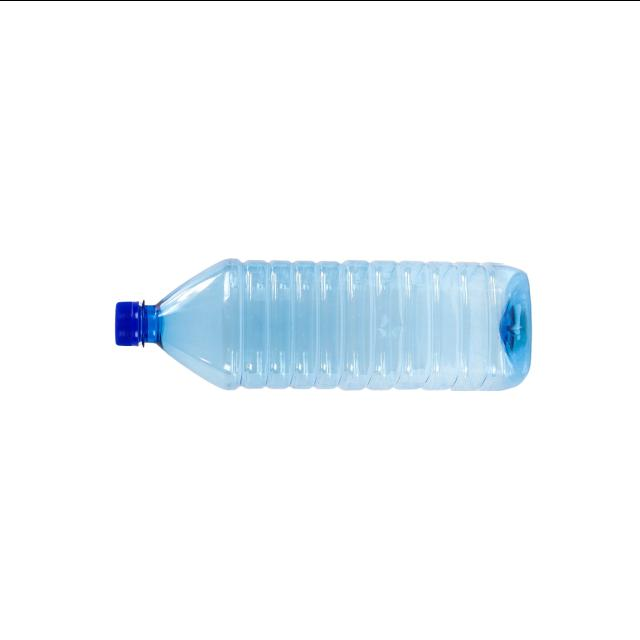bottom: (452, 263, 531, 389)
neck: (115, 258, 241, 388)
